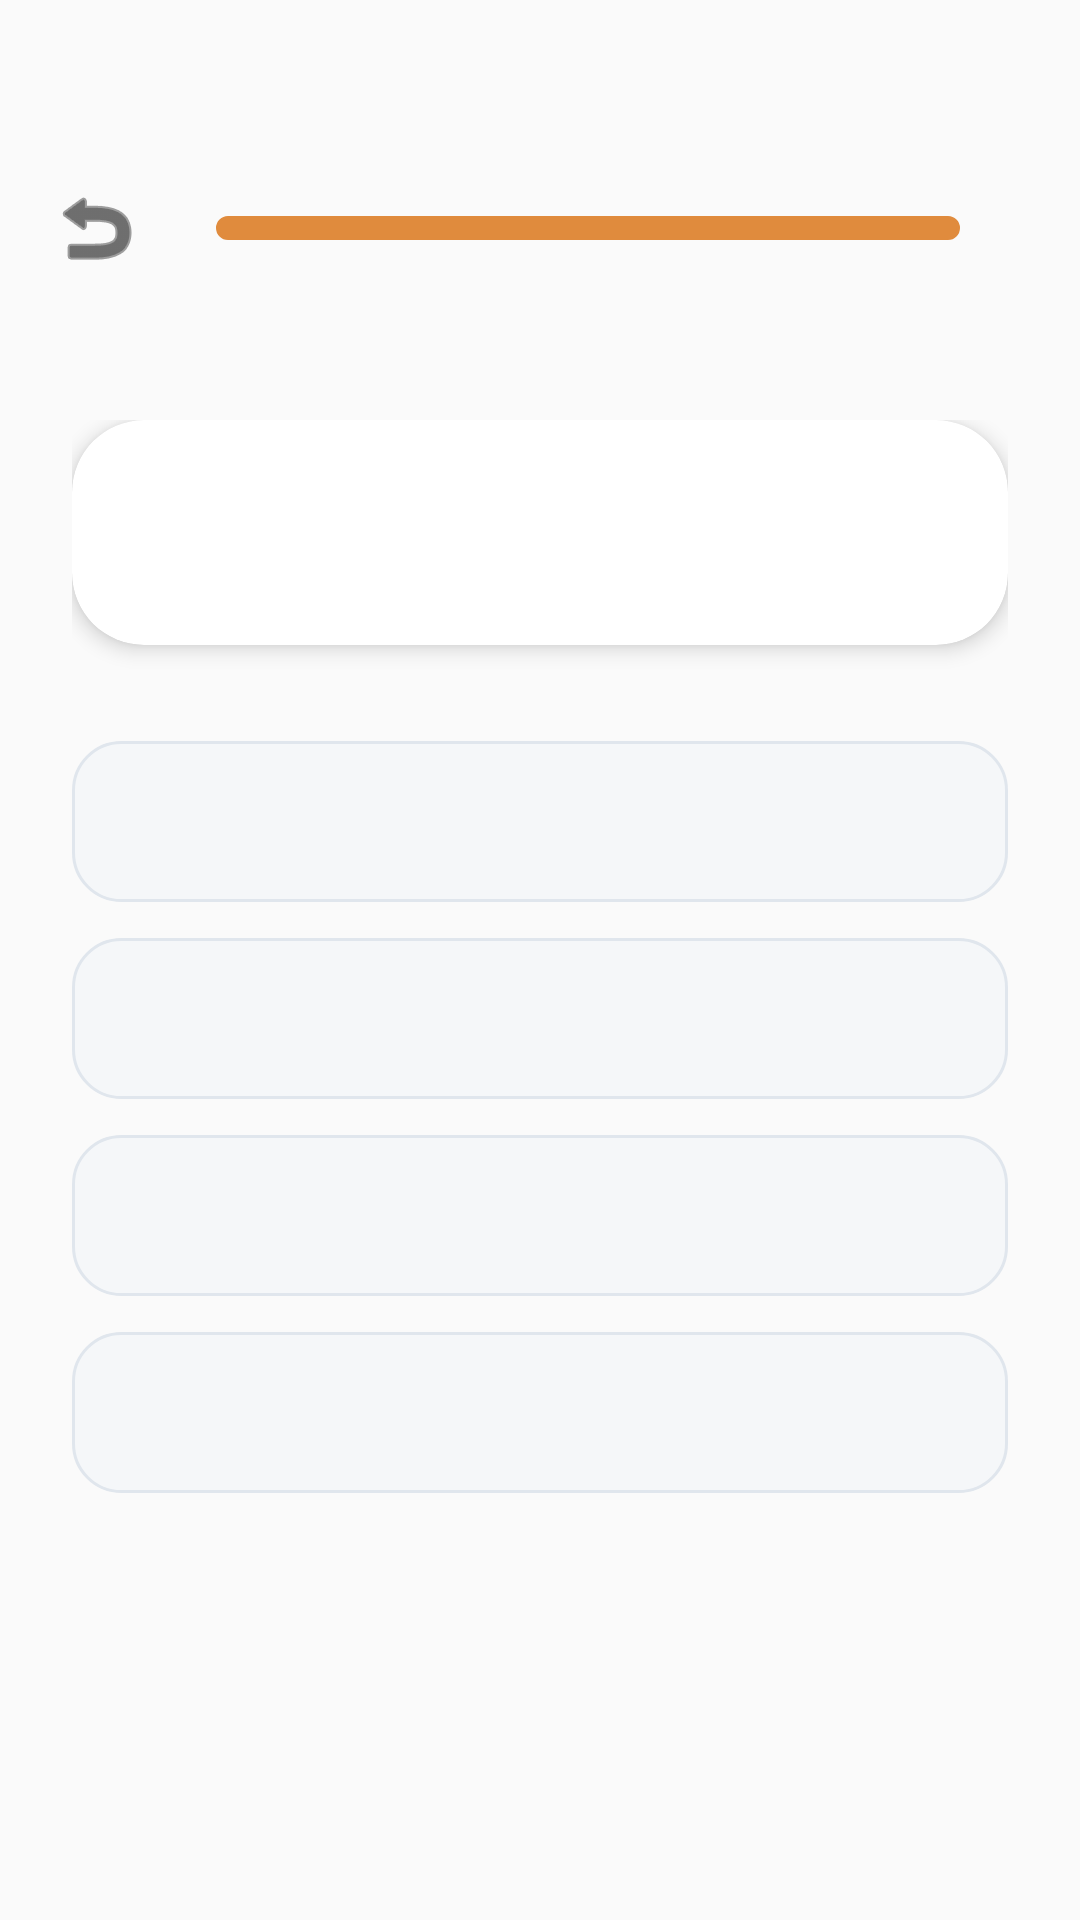

Screen size 1080 x 1920. Icon name, then its box in pixels as (x1, y1, x2, y2):
revert: (63, 197, 132, 260)
